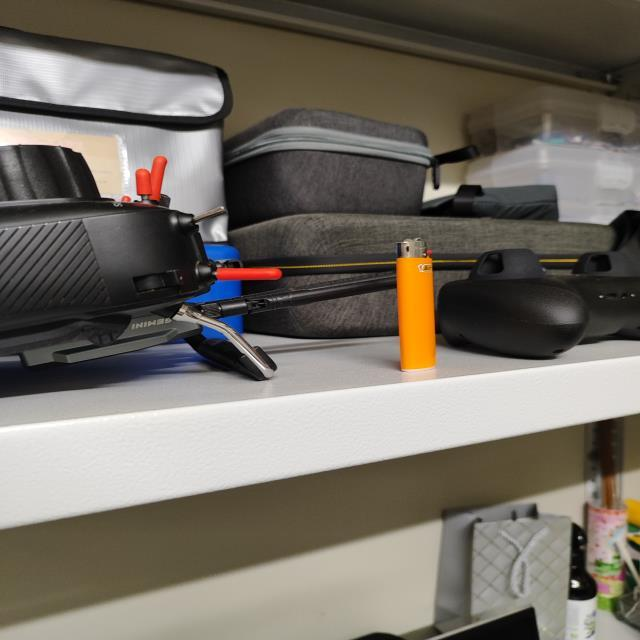lighter: (396, 238, 436, 377)
